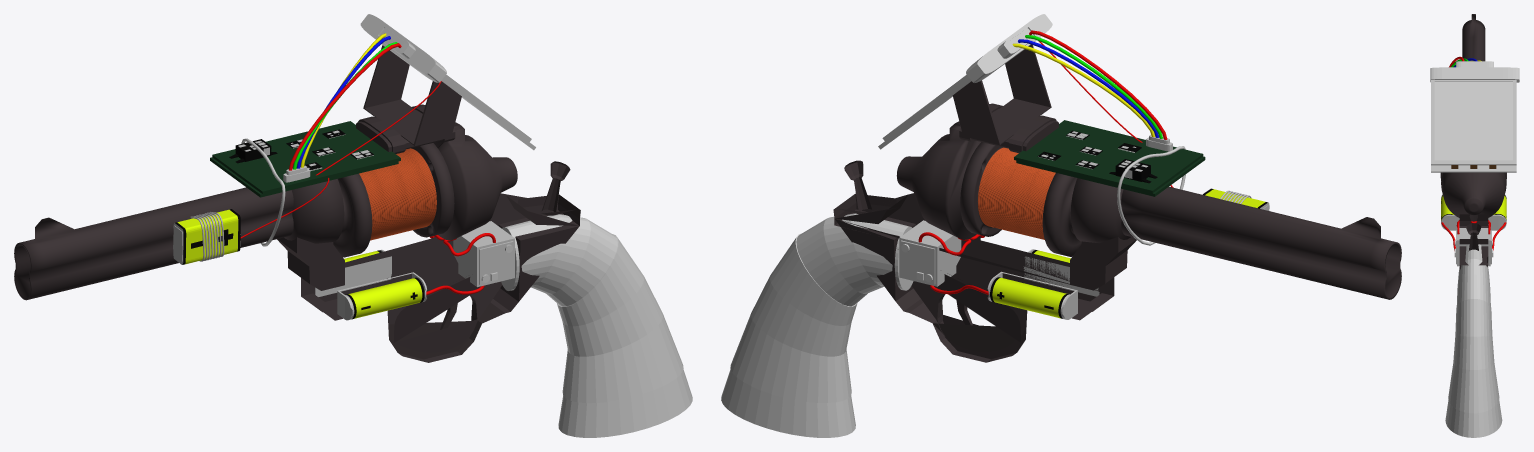
File: tool_gun.glb
3 renders of one model, left to right at view 1: azimuth 30°, elevation 25°; view 2: azimuth 150°, elevation 25°; view 3: azimuth 270°, elevation 25°, orthographic. The views are drawn at different scales.
Parts seen in each view (by area): view 1: object 1, object 14; view 2: object 1, object 14; view 3: object 1, object 14.
Boxes of the visible parts, x1,y1,x2,y2 form: object 1: (14, 14, 692, 437); object 14: (293, 33, 397, 169); object 1: (721, 14, 1401, 437); object 14: (1012, 35, 1162, 138); object 1: (1430, 14, 1519, 437); object 14: (1451, 58, 1496, 168).
Bounding box in the file's own units: 479 × 302 × 84.44.
